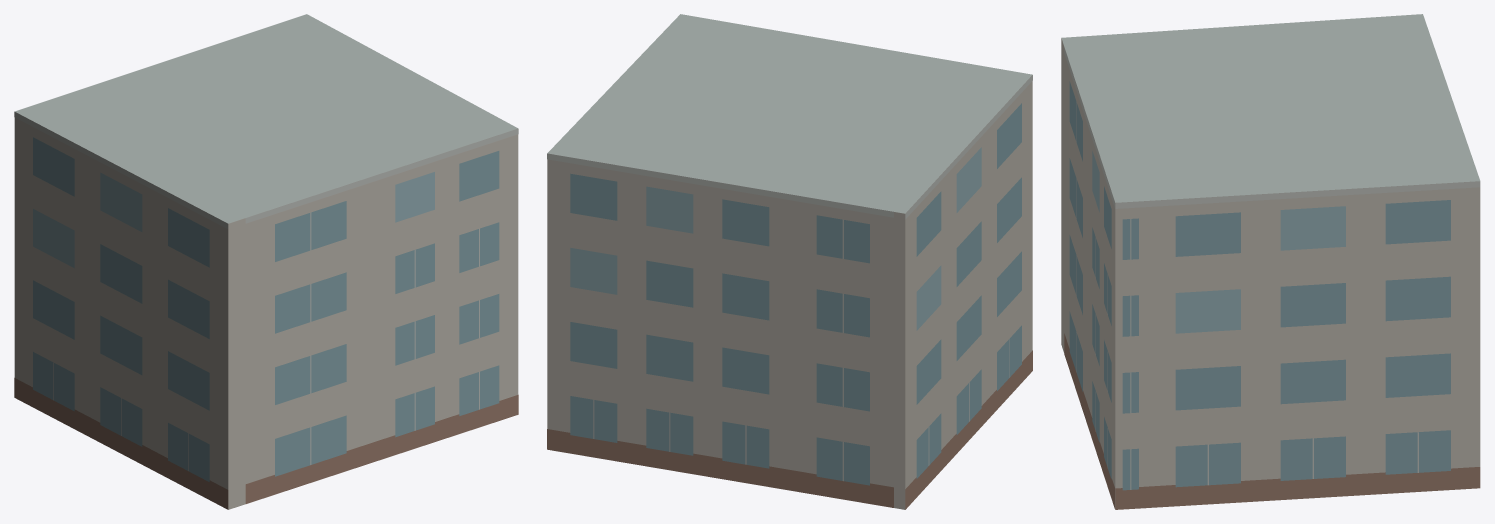
File: survey-upis-33008119.glb
3 views of the same model, side by side, from view 1: azimuth 30°, elevation 25°; view 2: azimuth 150°, elevation 25°; view 3: azimuth 270°, elevation 25° (orthographic). The views are drawn at different scales.
Visible parts, largest first — view 1: survey-upis-33008119.tmp; view 2: survey-upis-33008119.tmp; view 3: survey-upis-33008119.tmp.
Part boxes in pixels (x1,y1,x2,y2): survey-upis-33008119.tmp: [14, 14, 518, 509]; survey-upis-33008119.tmp: [547, 14, 1032, 509]; survey-upis-33008119.tmp: [1061, 14, 1480, 509].
Size of the model in its own units: 16.1 by 12.2 by 15.1.
